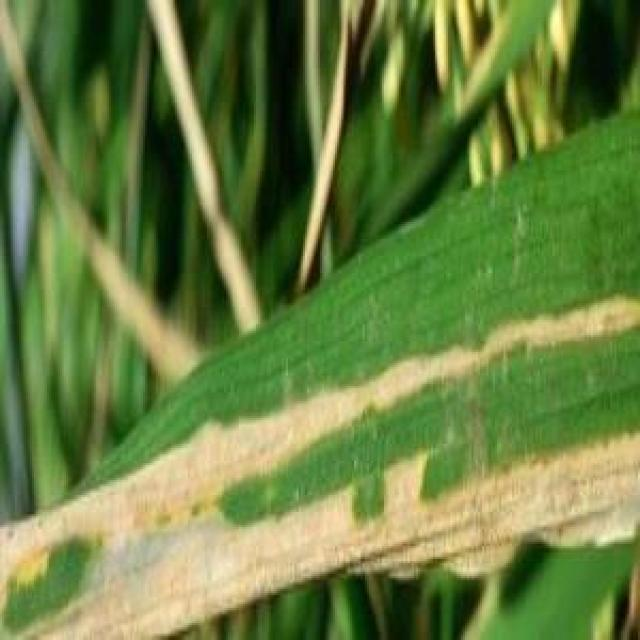Bacterial_Blight: (0, 411, 247, 640), (343, 451, 532, 574), (247, 356, 416, 477), (534, 431, 639, 549), (248, 488, 348, 609), (416, 316, 518, 398), (522, 292, 637, 348)
